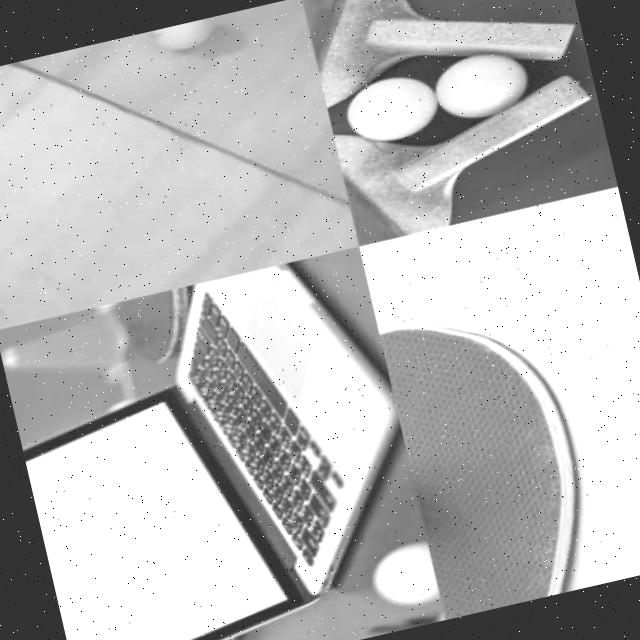ping-pong-ball: (340, 68, 443, 147), (429, 45, 528, 124), (361, 541, 439, 613), (151, 17, 217, 55)
